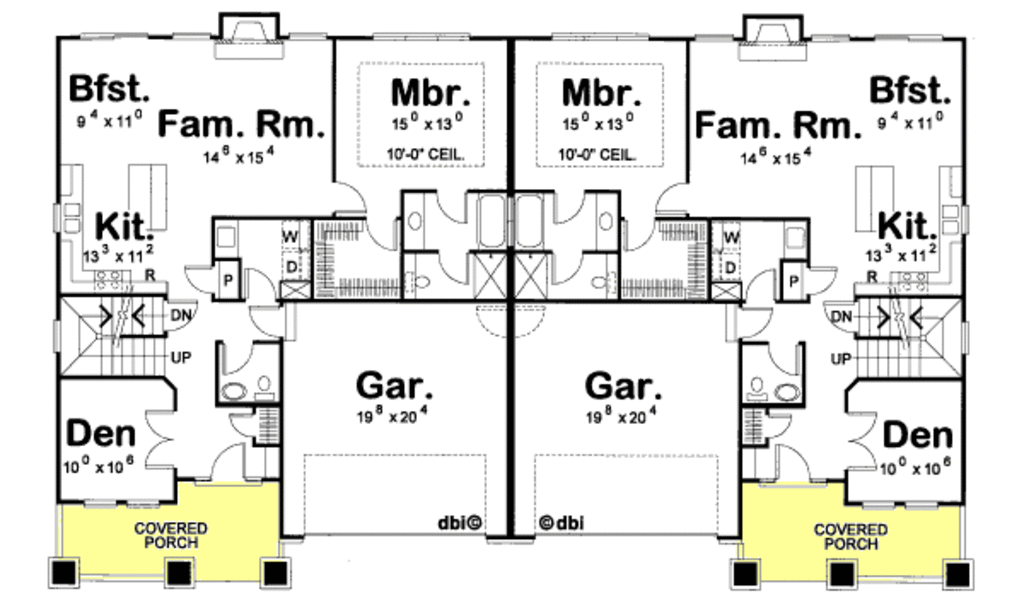door: (841, 403, 880, 471), (773, 446, 826, 491), (243, 304, 303, 343), (201, 440, 254, 484), (141, 409, 177, 470), (622, 214, 662, 260), (234, 265, 279, 304), (727, 302, 772, 341), (735, 264, 778, 304), (221, 403, 266, 441), (430, 185, 470, 226), (656, 173, 694, 216), (218, 337, 260, 374), (153, 298, 197, 331), (770, 340, 807, 378), (547, 249, 586, 285), (545, 191, 585, 225), (822, 302, 859, 337), (332, 178, 367, 214), (437, 248, 470, 283), (181, 264, 217, 296), (366, 217, 396, 254), (809, 265, 838, 298), (765, 411, 795, 439)
large_sink: (400, 260, 439, 296), (578, 262, 620, 295), (749, 372, 774, 404)
small_sink: (402, 193, 430, 248), (595, 189, 617, 253), (774, 381, 807, 403), (222, 376, 250, 401)
stairs: (59, 294, 174, 377), (861, 300, 962, 376)
twin_sink: (937, 198, 965, 240), (55, 197, 79, 237)
window: (550, 28, 650, 46), (369, 31, 476, 42), (287, 27, 335, 45), (956, 313, 976, 356), (75, 499, 125, 516), (126, 494, 166, 510), (51, 317, 65, 356), (859, 498, 900, 510), (902, 498, 939, 511), (168, 31, 214, 41)
